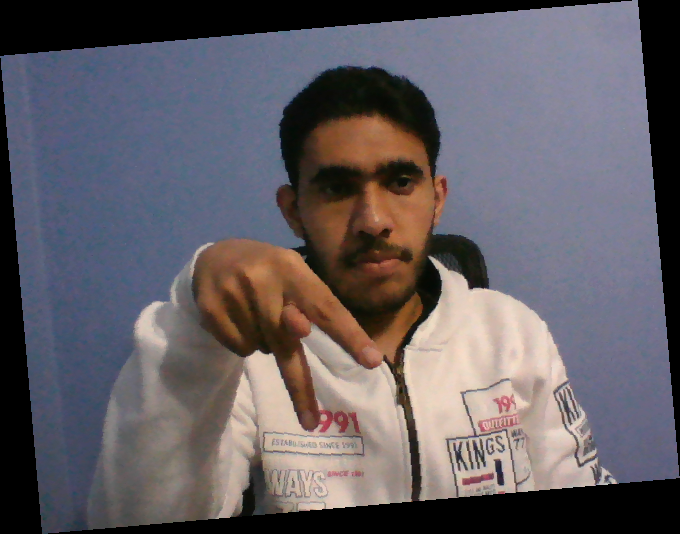P: (183, 234, 390, 432)
